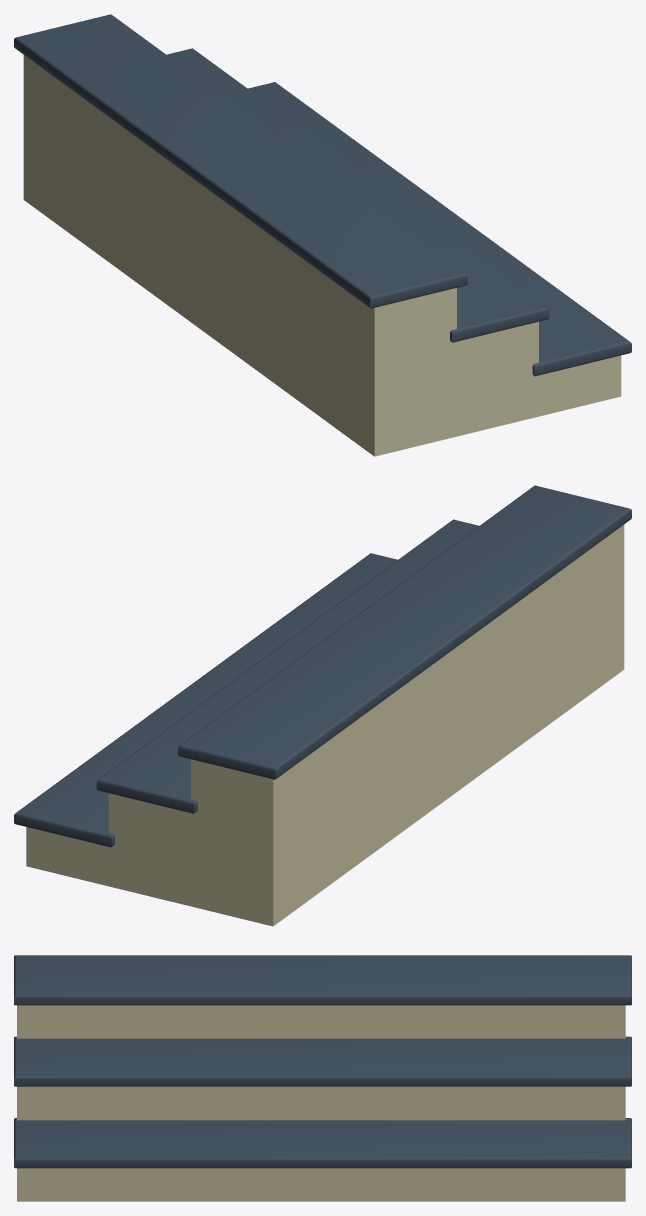
File: SM_Stairs.FBX
3 renders of one model, top to bottom at view 1: azimuth 30°, elevation 25°; view 2: azimuth 150°, elevation 25°; view 3: azimuth 270°, elevation 25°, orthographic. The views are drawn at different scales.
Visible parts, largest first — view 1: SM_Stairs; view 2: SM_Stairs; view 3: SM_Stairs.
Part boxes in pixels (left/top/right/bottom): SM_Stairs: left=14, top=14, right=631, bottom=456; SM_Stairs: left=14, top=485, right=631, bottom=926; SM_Stairs: left=14, top=955, right=631, bottom=1201.
Size of the model in its own units: 84.76 by 200 by 50.01.
